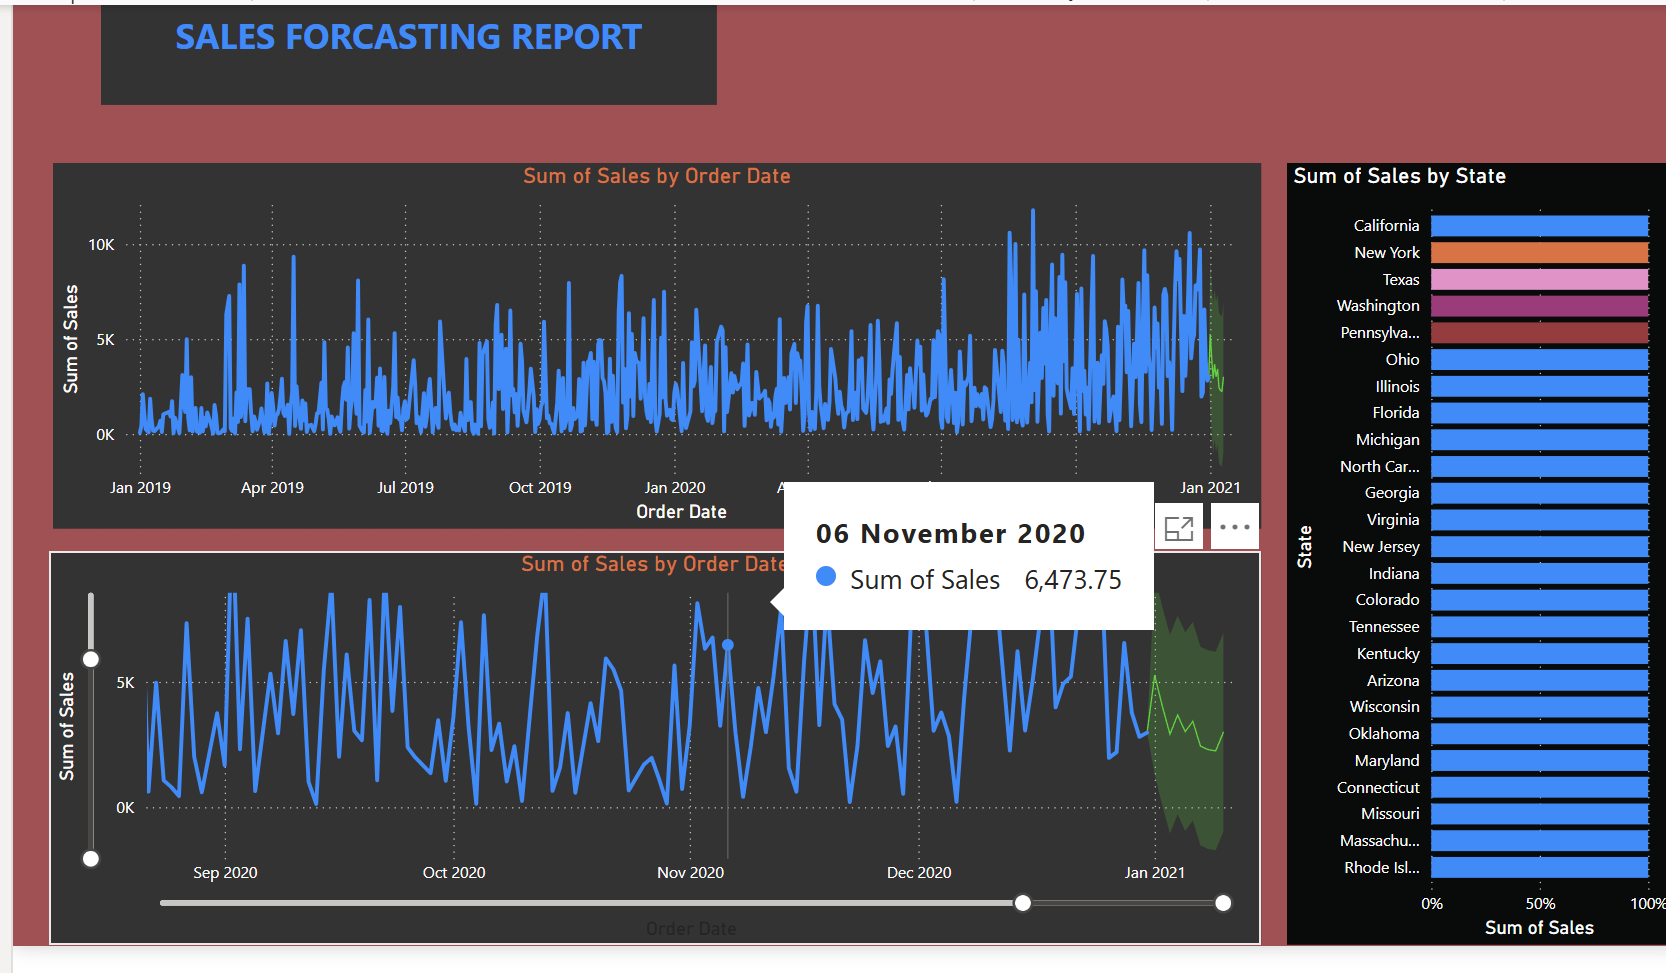

The dashboard page shown, as its layout file describes it:
{"tool":"powerbi","page":{"name":"Page 2","canvas":[1280,720],"ordinal":1},"visuals":[{"type":"lineChart","fields":{"Y":["Sum(SuperStore_Sales_Dataset.Sales)"],"Category":["SuperStore_Sales_Dataset.Order Date"]},"box":[30.6,121,924.8,280.2],"z":0},{"type":"lineChart","fields":{"Y":["Sum(SuperStore_Sales_Dataset.Sales)"],"Category":["SuperStore_Sales_Dataset.Order Date"]},"box":[27.6,418,927.8,301.6],"z":1000},{"type":"hundredPercentStackedBarChart","fields":{"Y":["Sum(SuperStore_Sales_Dataset.Sales)"],"Category":["SuperStore_Sales_Dataset.State"]},"box":[975.3,121,304.7,598.7],"z":2000},{"type":"textbox","box":[67.4,0,471.6,76.6],"z":3000}]}

Visuals, with their boxes on the page's 1280x720 design canvas (x1, y1, x2, y2). These are canvas units, not pixel positions in the 1666x973 screenshot, which may show the page scaled, cropped or inside an application window:
lineChart - Sum(SuperStore_Sales_Dataset.Sales) x SuperStore_Sales_Dataset.Order Date: l=31, t=121, r=955, b=401
lineChart - Sum(SuperStore_Sales_Dataset.Sales) x SuperStore_Sales_Dataset.Order Date: l=28, t=418, r=955, b=720
hundredPercentStackedBarChart - Sum(SuperStore_Sales_Dataset.Sales) x SuperStore_Sales_Dataset.State: l=975, t=121, r=1280, b=720
textbox: l=67, t=0, r=539, b=77
